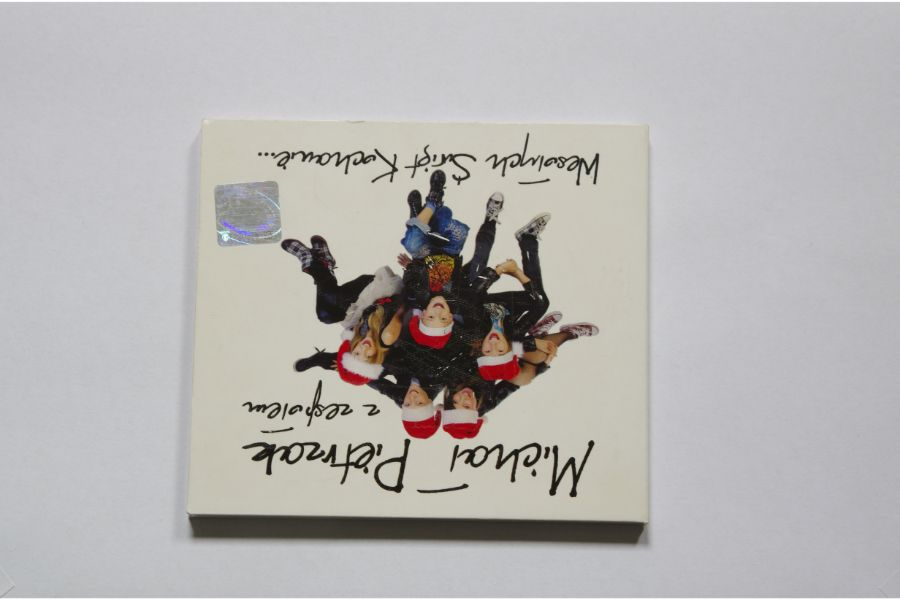album: (187, 118, 649, 528)
